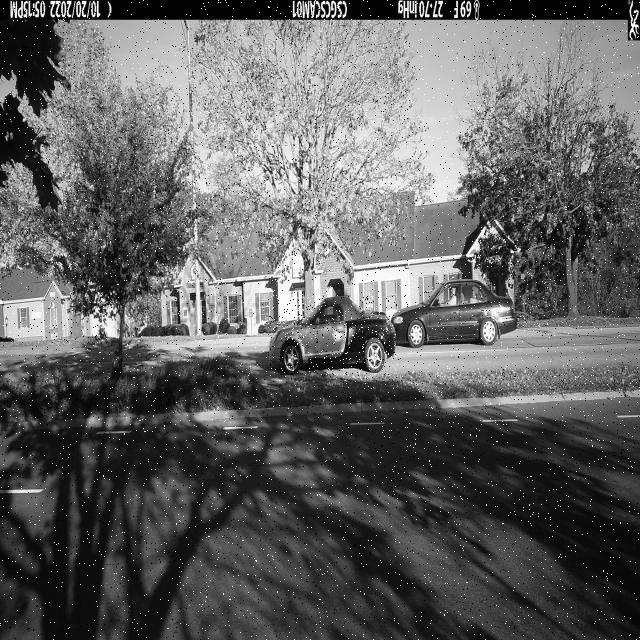Sedan: (268, 296, 395, 375)
